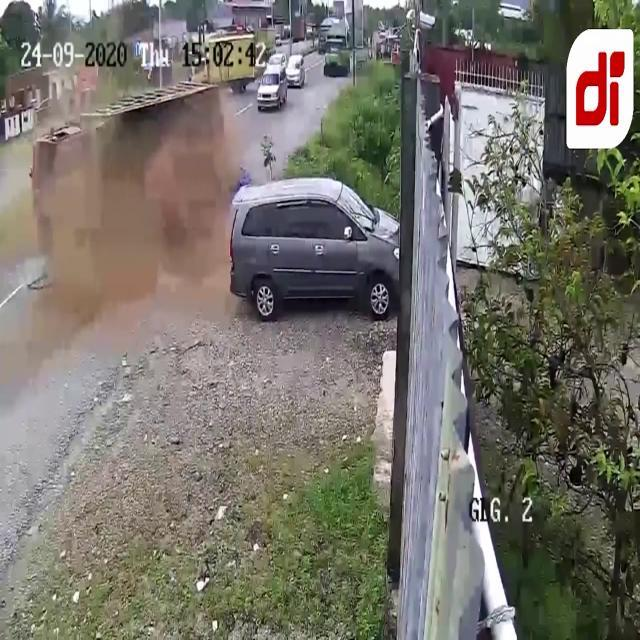multiple_accident: (22, 76, 264, 282), (222, 159, 430, 333)
